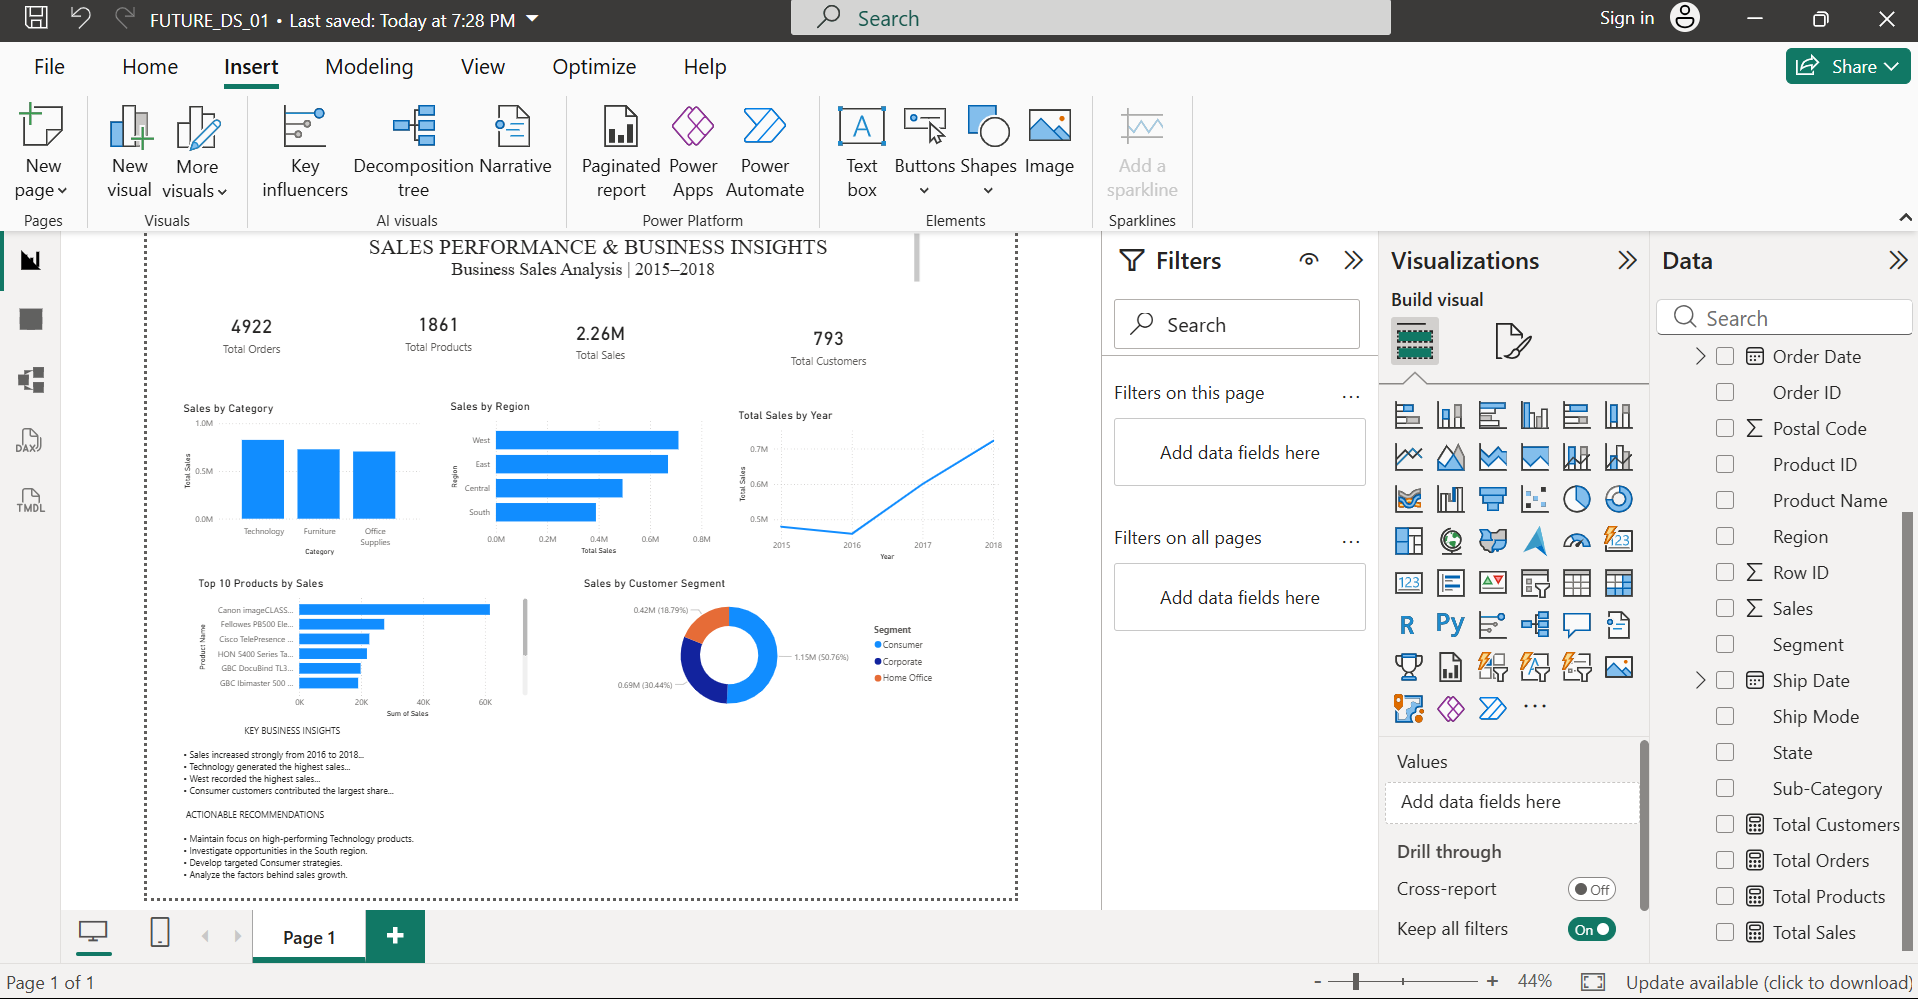

Layout of this report page (visuals, bound fields, positions):
{"tool":"powerbi","page":{"name":"Page 1","canvas":[1300,1000],"ordinal":0},"visuals":[{"type":"card","fields":{"Values":["train.Total Orders"]},"box":[15.1,79.4,281.6,149.3],"z":0},{"type":"card","fields":{"Values":["train.Total Sales"]},"box":[540.5,111.5,279.7,100.2],"z":1000},{"type":"card","fields":{"Values":["train.Total Customers"]},"box":[882.5,111.5,279.7,117.2],"z":2000},{"type":"card","fields":{"Values":["train.Total Products"]},"box":[296.7,71.8,279.7,156.9],"z":3000},{"type":"lineChart","fields":{"Category":["train.Order Date.Variation.Date Hierarchy.Year","train.Order Date.Variation.Date Hierarchy.Quarter","train.Order Date.Variation.Date Hierarchy.Month","train.Order Date.Variation.Date Hierarchy.Day"],"Y":["train.Total Sales"]},"box":[881.6,267.6,404.8,231.6],"z":4000},{"type":"clusteredBarChart","title":"Top 10 Products by Sales","fields":{"Category":["train.Product Name"],"Y":["Sum(train.Sales)"]},"box":[72,519.5,503.8,215.9],"z":5000},{"type":"clusteredColumnChart","title":"Sales by Category","fields":{"Category":["train.Category"],"Y":["train.Total Sales"]},"box":[49.5,256.4,364.3,236.1],"z":6000},{"type":"clusteredBarChart","title":"Sales by Region","fields":{"Category":["train.Region"],"Y":["train.Total Sales"]},"box":[449.8,254.1,400.3,236.1],"z":7000},{"type":"donutChart","title":"Sales by Customer Segment","fields":{"Category":["train.Segment"],"Y":["train.Total Sales"]},"box":[649.9,519.5,542,215.9],"z":8000},{"type":"textbox","box":[230.6,0,931.7,96.4],"z":9000},{"type":"textbox","box":[49.5,735.4,1236.9,265.4],"z":10000}]}

Visuals, with their boxes on the page's 1300x1000 design canvas (x1, y1, x2, y2). These are canvas units, not pixel positions in the 1918x999 screenshot, which may show the page scaled, cropped or inside an application window:
card - train.Total Orders: (15,79,297,229)
card - train.Total Sales: (540,112,820,212)
card - train.Total Customers: (882,112,1162,229)
card - train.Total Products: (297,72,576,229)
lineChart - train.Order Date.Variation.Date Hierarchy.Year x train.Order Date.Variation.Date Hierarchy.Quarter: (882,268,1286,499)
"Top 10 Products by Sales" clusteredBarChart: (72,520,576,735)
"Sales by Category" clusteredColumnChart: (50,256,414,492)
"Sales by Region" clusteredBarChart: (450,254,850,490)
"Sales by Customer Segment" donutChart: (650,520,1192,735)
textbox: (231,0,1162,96)
textbox: (50,735,1286,1001)
